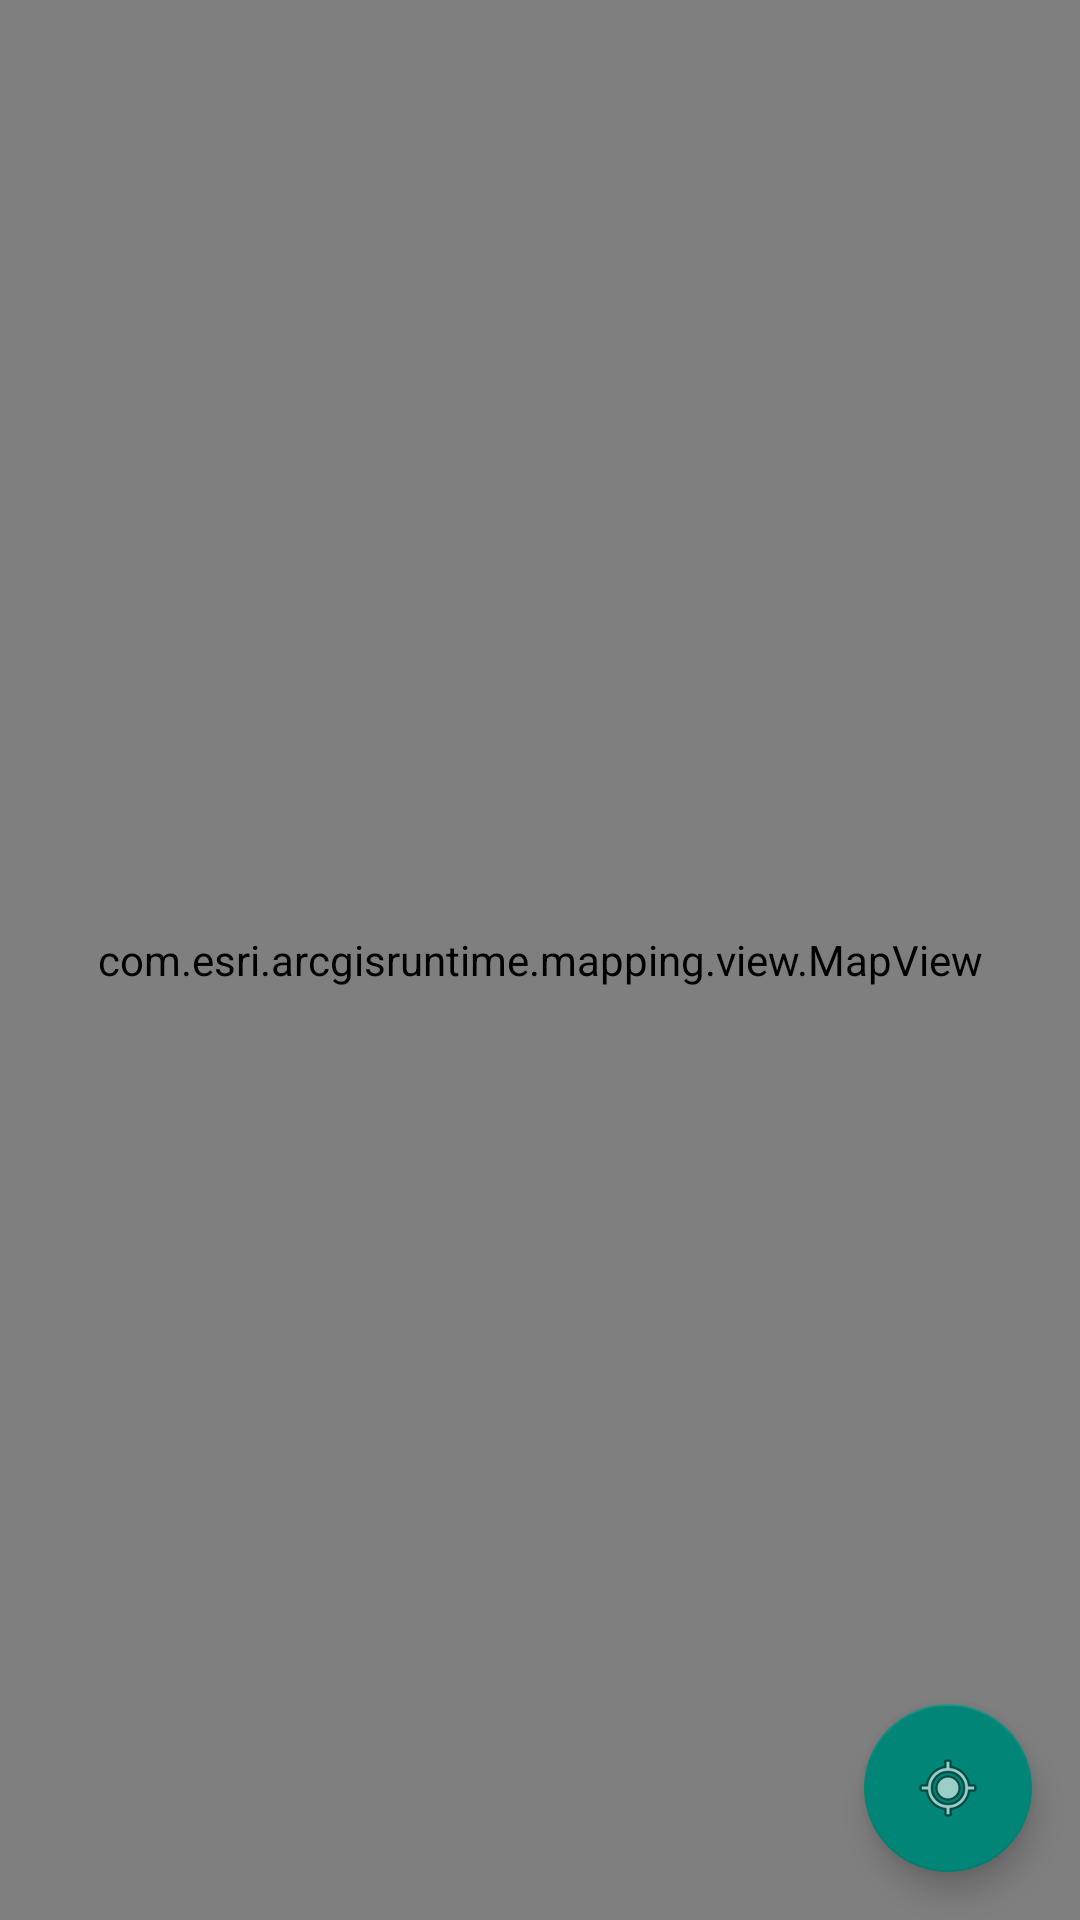

Where to tap for icons on this 1080px×1920px app screen, as point (x, y):
Turn GPS on/off: point (948, 1788)
